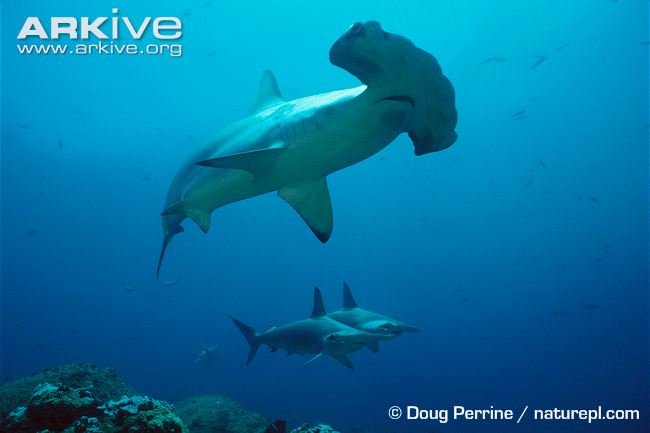shark: (106, 10, 472, 289)
